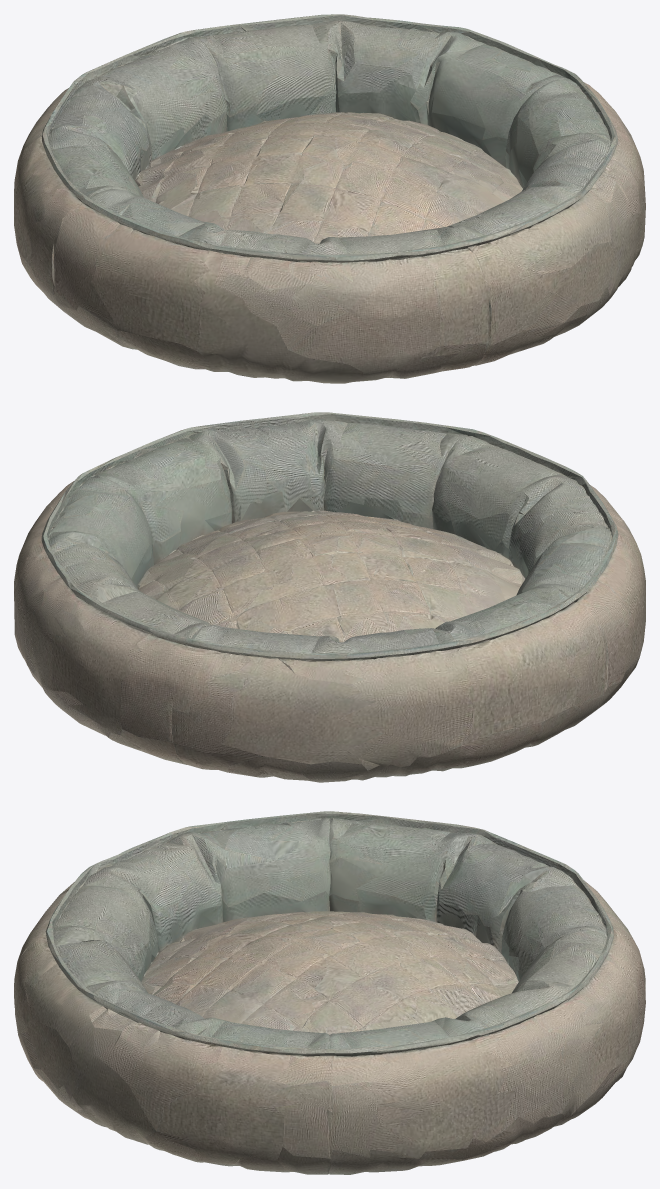
The model's file is dogmat2.glb.
3 views of the same model, one above another, from view 1: azimuth 30°, elevation 25°; view 2: azimuth 150°, elevation 25°; view 3: azimuth 270°, elevation 25° (orthographic).
Size of the model in its own units: 1.9 by 0.453 by 1.9.
1 material, 1 textured.
